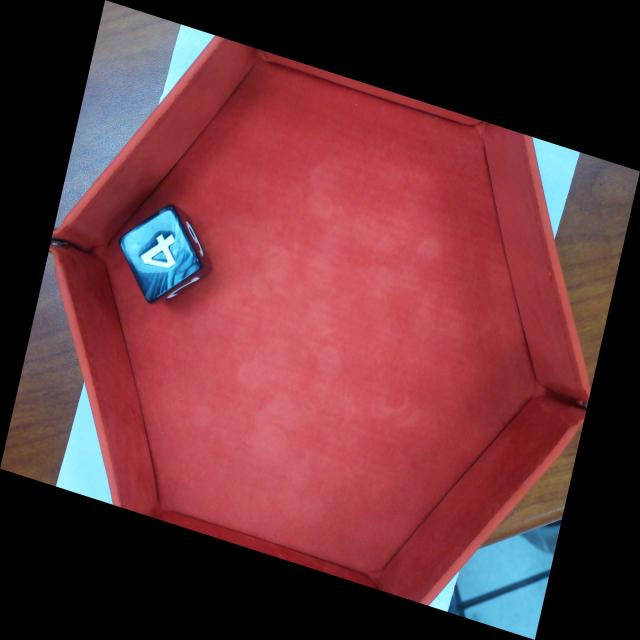dice: (124, 209, 202, 304)
